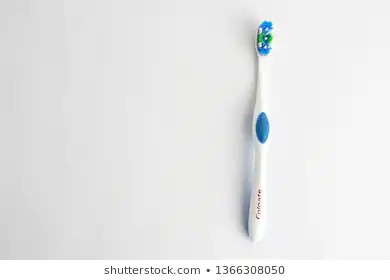toothbrush: (242, 21, 289, 247)
